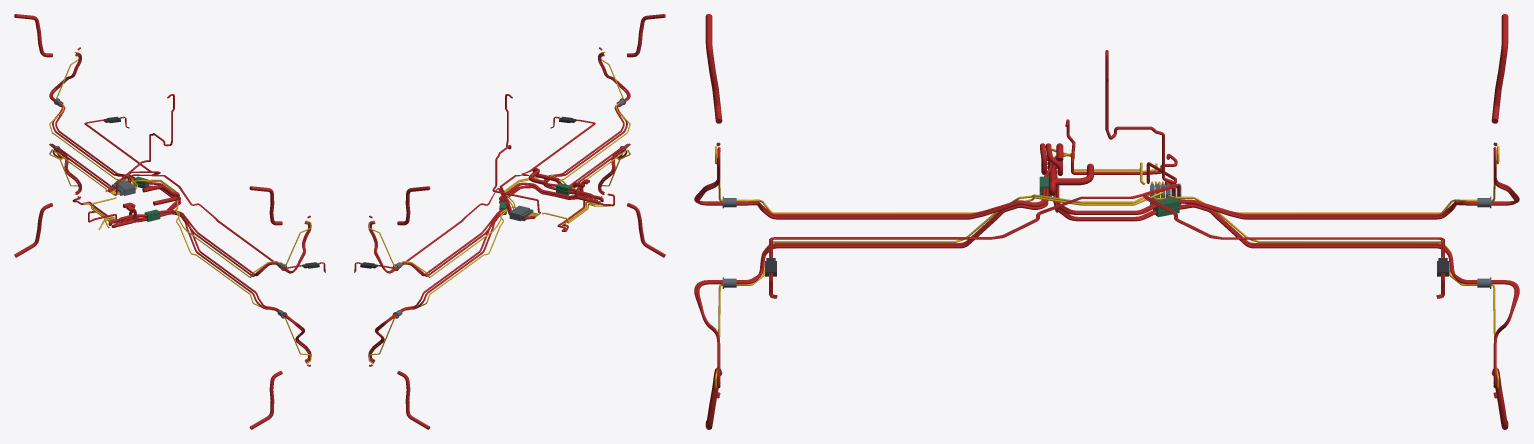
The model's file is harness.glb.
3 views of the same model, side by side, from view 1: azimuth 30°, elevation 25°; view 2: azimuth 150°, elevation 25°; view 3: azimuth 270°, elevation 25° (orthographic). The views are drawn at different scales.
Visible parts, largest first — view 1: E-HRN-16, E-HRN-14, E-HRN-13, E-HRN-15, E-HRN-28, E-HRN-25, E-HRN-27, E-HRN-29, E-HRN-30, E-HRN-24, E-HRN-10, E-HRN-20 (+2 smaller); view 2: E-HRN-13, E-HRN-15, E-HRN-14, E-HRN-16, E-HRN-28, E-HRN-29, E-HRN-30, E-HRN-25, E-HRN-26, E-HRN-24, E-HRN-19, E-HRN-20 (+2 smaller); view 3: E-HRN-15, E-HRN-13, E-HRN-16, E-HRN-14, E-HRN-28, E-HRN-29, E-HRN-27, E-HRN-25, E-HRN-30, E-HRN-26, E-HRN-17, E-HRN-18.
Part boxes in pixels (x1,y1,x2,y2): E-HRN-16: (120, 212, 311, 362); E-HRN-14: (114, 210, 311, 276); E-HRN-13: (49, 52, 180, 221); E-HRN-15: (49, 143, 181, 222); E-HRN-28: (109, 174, 325, 272); E-HRN-25: (112, 179, 311, 277); E-HRN-27: (111, 180, 311, 363); E-HRN-29: (84, 116, 160, 191); E-HRN-30: (114, 94, 174, 195); E-HRN-24: (49, 51, 133, 192); E-HRN-10: (142, 185, 179, 205); E-HRN-20: (249, 371, 282, 429); E-HRN-13: (368, 182, 586, 276); E-HRN-15: (368, 185, 577, 362); E-HRN-14: (543, 52, 630, 200); E-HRN-16: (543, 143, 630, 198); E-HRN-28: (499, 116, 595, 217); E-HRN-29: (354, 188, 534, 272); E-HRN-30: (492, 94, 540, 213); E-HRN-25: (504, 51, 630, 215); E-HRN-26: (368, 206, 539, 363); E-HRN-24: (368, 208, 536, 277); E-HRN-19: (397, 371, 430, 429); E-HRN-20: (627, 203, 665, 257); E-HRN-15: (1053, 174, 1519, 387); E-HRN-13: (1053, 147, 1519, 219); E-HRN-16: (694, 165, 1057, 387); E-HRN-14: (694, 147, 1055, 219); E-HRN-28: (769, 181, 1175, 298); E-HRN-29: (1143, 182, 1444, 298); E-HRN-27: (714, 181, 1163, 388); E-HRN-25: (715, 146, 1158, 213); E-HRN-30: (1105, 50, 1176, 184); E-HRN-26: (1151, 181, 1498, 388); E-HRN-17: (1491, 14, 1508, 123); E-HRN-18: (705, 14, 722, 123).
Bounding box in the file's own units: 0.2505 × 0.3851 × 0.7.
